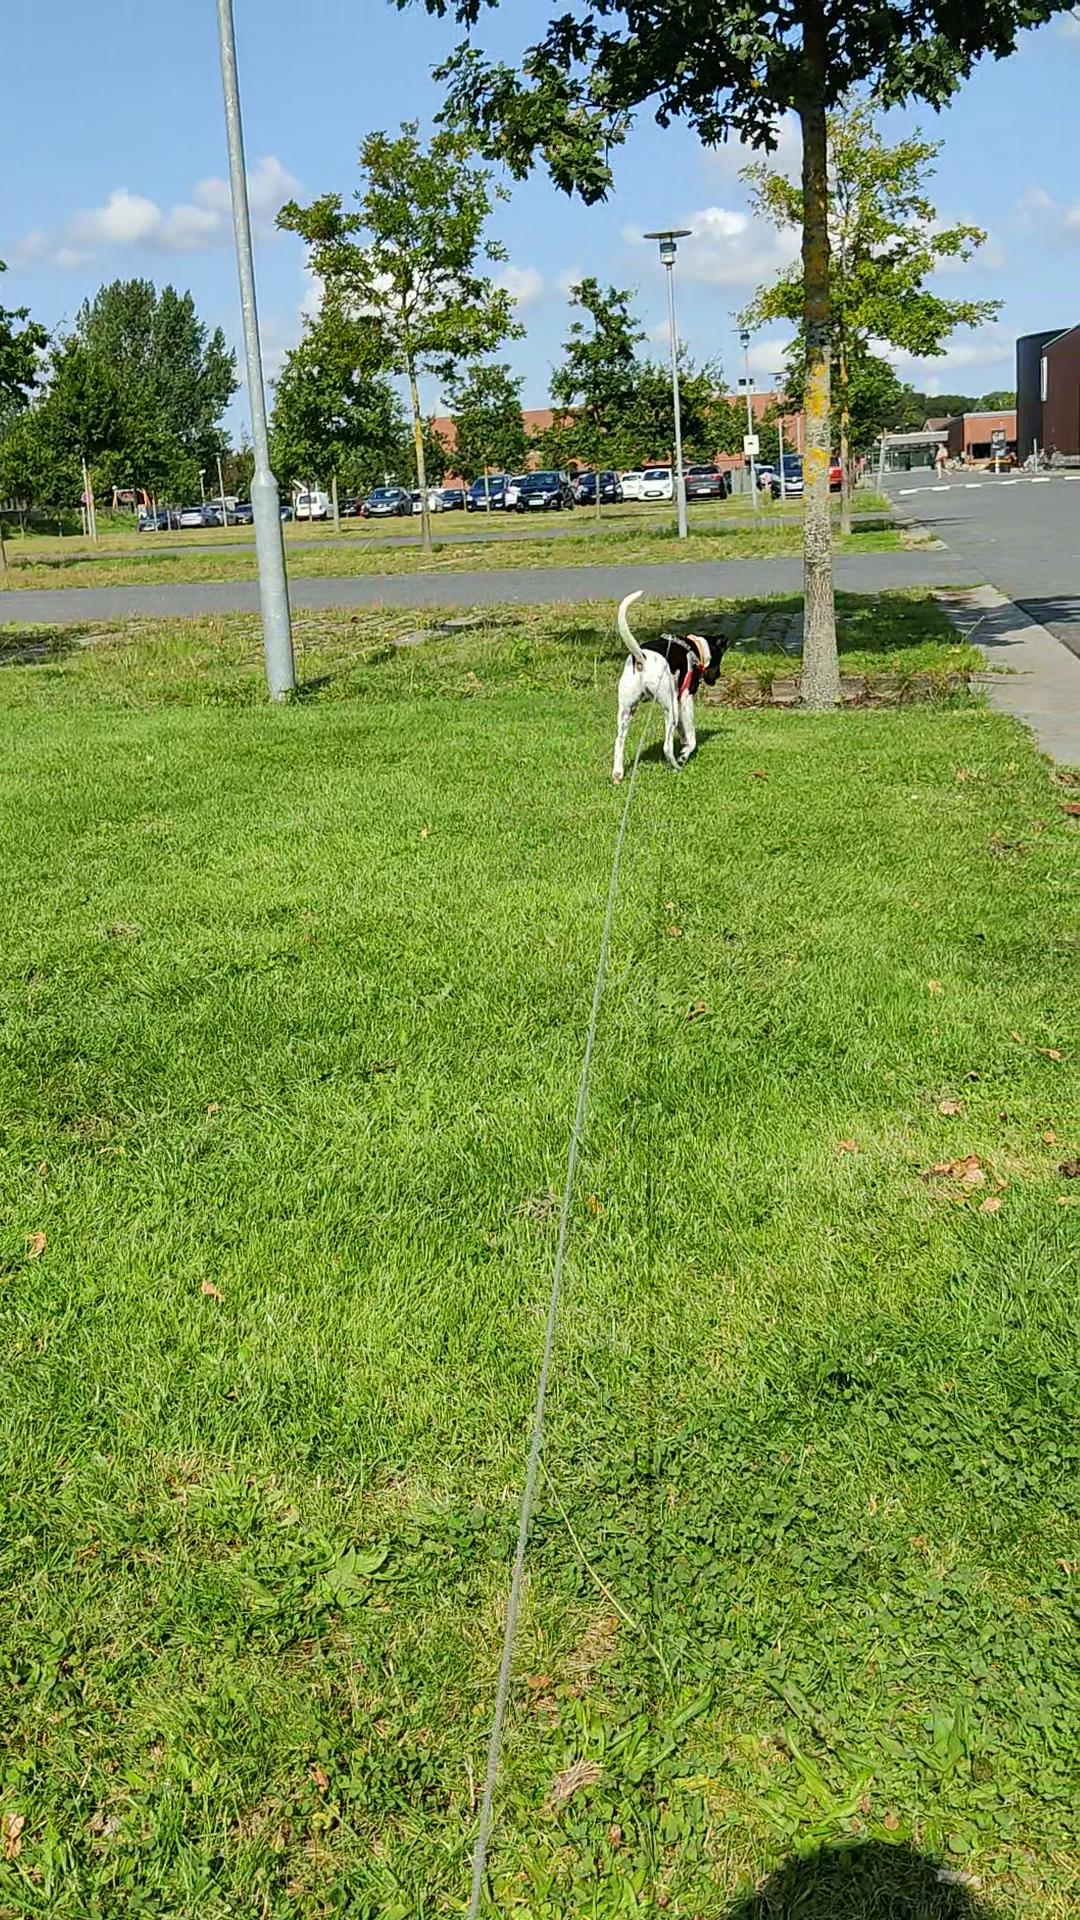Dog: (588, 574, 732, 793)
